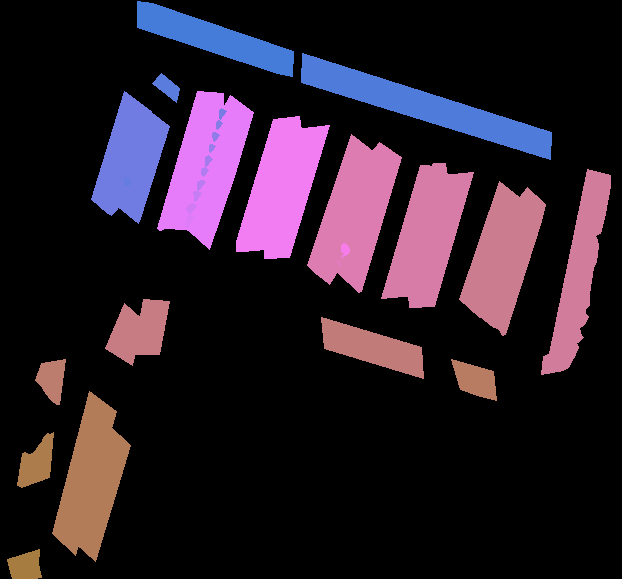parkingspot: (301, 53, 551, 159), (541, 169, 610, 374), (137, 1, 293, 76), (307, 134, 378, 284), (52, 391, 116, 555), (186, 95, 253, 249), (478, 187, 545, 335), (337, 142, 401, 292), (157, 91, 223, 230), (381, 163, 447, 298), (459, 181, 524, 317), (263, 125, 329, 258), (236, 116, 301, 251), (408, 172, 473, 307), (74, 426, 130, 561), (91, 91, 151, 215), (112, 109, 169, 223), (321, 317, 423, 378), (105, 303, 142, 365), (17, 432, 53, 487), (133, 299, 169, 354), (451, 359, 496, 400), (35, 359, 65, 404), (7, 549, 41, 579), (152, 73, 179, 102)
